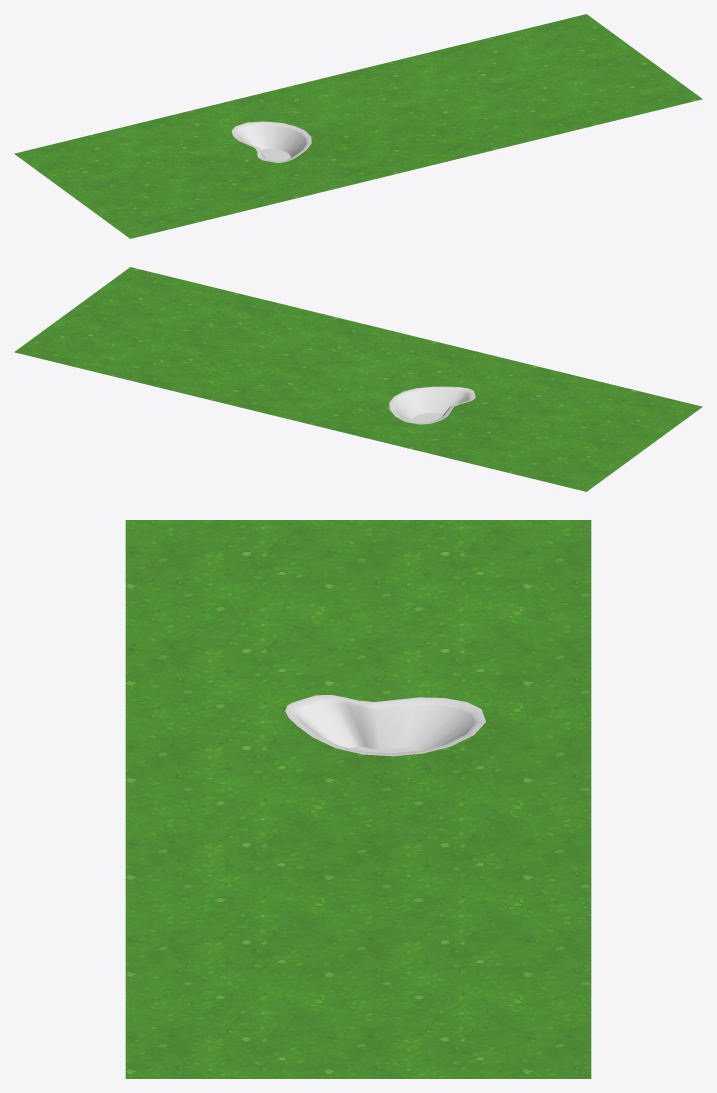
File: Scene_2_Grass.fbx
The picture shows the model from 3 angles, top to bottom: view 1: azimuth 30°, elevation 25°; view 2: azimuth 150°, elevation 25°; view 3: azimuth 270°, elevation 25°; orthographic projection. The views are drawn at different scales.
Visible parts, largest first — view 1: Grass; view 2: Grass; view 3: Grass.
Boxes of the visible parts, x1,y1,x2,y2 form: Grass: (14,14,702,238); Grass: (14,267,702,491); Grass: (125,520,591,1078).
Size of the model in its own units: 8568 by 242 by 3017.
